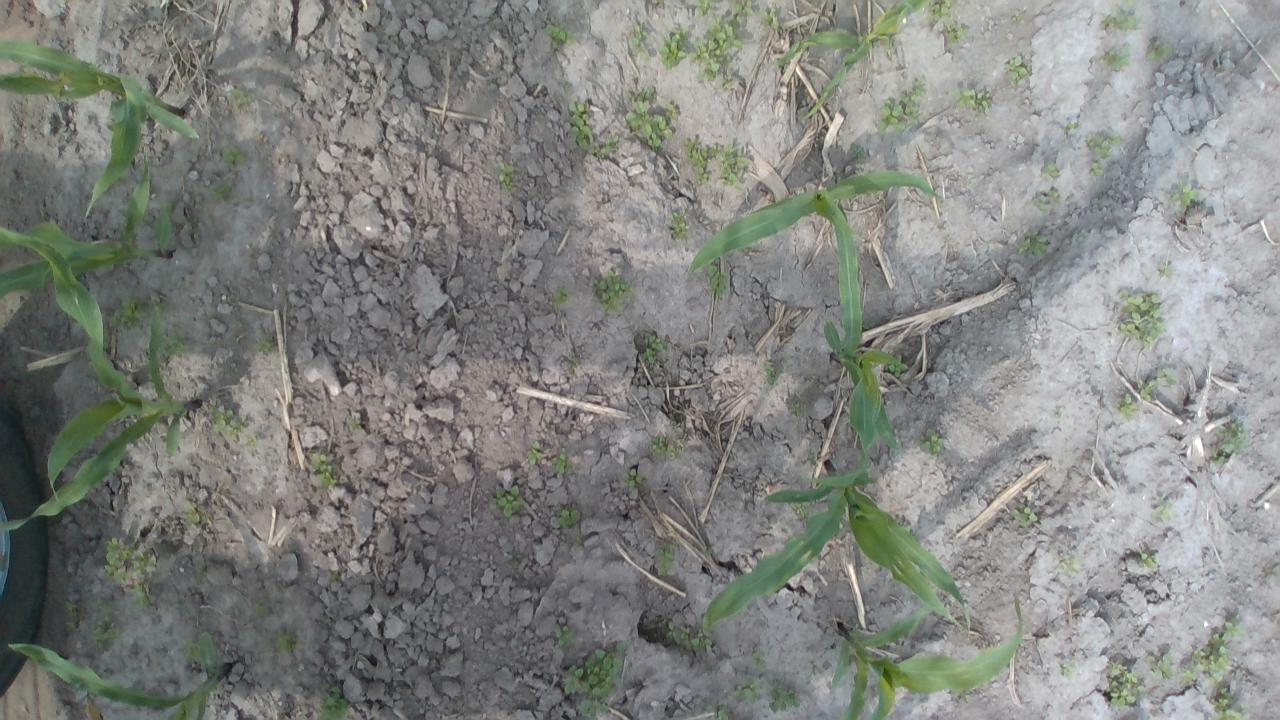Maize: (0, 226, 203, 534), (703, 461, 972, 637), (0, 38, 200, 219), (0, 152, 174, 302), (688, 170, 940, 272), (829, 595, 1021, 720), (820, 198, 907, 464), (7, 630, 230, 720), (778, 0, 928, 123)
Weeds: (562, 640, 624, 720), (1180, 616, 1242, 685), (688, 15, 744, 90), (623, 86, 679, 150), (1117, 290, 1167, 350), (878, 80, 926, 135), (104, 536, 156, 584), (104, 288, 150, 333), (88, 596, 124, 652), (593, 270, 636, 314), (682, 135, 718, 185), (1212, 420, 1248, 466), (566, 98, 596, 152), (718, 143, 754, 188), (666, 620, 711, 656), (1107, 662, 1143, 706), (208, 403, 248, 441), (656, 27, 686, 70), (1086, 127, 1120, 160), (950, 87, 994, 112), (310, 452, 338, 490), (544, 15, 576, 48), (316, 687, 348, 720), (1212, 686, 1243, 720), (646, 434, 682, 462), (1000, 55, 1030, 88), (496, 485, 524, 520), (1168, 180, 1200, 209), (767, 686, 800, 714), (706, 256, 728, 296), (1100, 8, 1138, 31), (270, 629, 299, 658), (941, 20, 971, 48), (924, 0, 954, 28), (654, 542, 678, 576), (641, 336, 670, 364), (1144, 654, 1174, 680), (1100, 46, 1130, 72), (734, 678, 763, 704), (1018, 231, 1048, 256), (159, 334, 191, 357), (630, 22, 650, 58), (919, 429, 944, 455), (1034, 188, 1062, 211), (129, 584, 154, 609), (552, 624, 576, 650), (1116, 393, 1138, 421), (592, 134, 620, 156), (552, 447, 574, 475), (208, 178, 235, 200), (760, 362, 784, 386), (64, 600, 82, 632), (556, 505, 580, 529), (222, 144, 246, 167), (1145, 40, 1170, 62), (886, 354, 908, 378), (497, 159, 513, 192), (671, 211, 689, 240), (1156, 368, 1180, 386), (1012, 507, 1036, 525), (182, 500, 200, 524), (182, 638, 200, 662), (254, 334, 275, 354), (1060, 557, 1082, 576), (733, 0, 759, 16), (527, 440, 543, 466), (849, 142, 865, 166), (1136, 380, 1155, 400), (1040, 160, 1061, 178), (226, 87, 247, 105), (1140, 550, 1159, 569), (696, 0, 720, 15), (761, 8, 781, 26), (624, 468, 641, 488), (790, 501, 809, 518), (253, 598, 265, 623), (752, 654, 770, 670), (1088, 160, 1105, 176), (712, 703, 728, 720), (1071, 228, 1089, 243), (1156, 503, 1170, 521), (554, 287, 568, 305), (798, 454, 816, 466), (1156, 264, 1170, 279), (792, 402, 802, 418), (566, 357, 578, 370), (1063, 121, 1080, 130), (1062, 663, 1072, 678), (352, 419, 362, 434), (960, 694, 974, 704), (558, 78, 568, 90), (1011, 14, 1023, 24), (247, 436, 257, 448), (840, 518, 846, 530)
